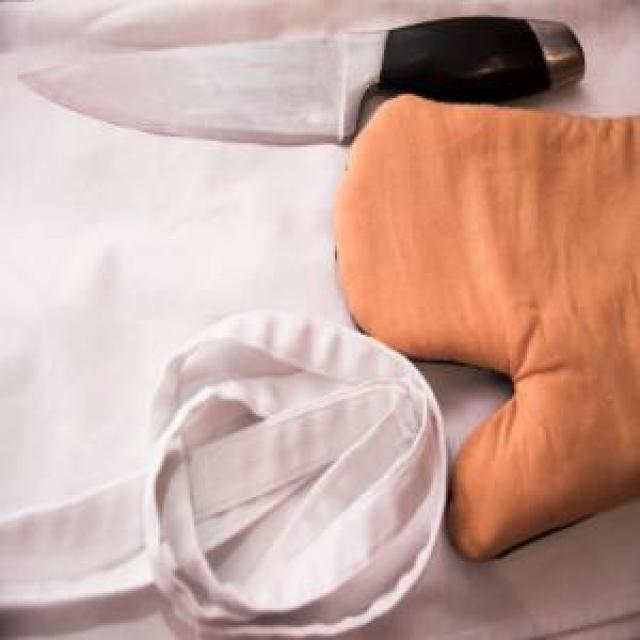knife: (21, 19, 588, 150)
